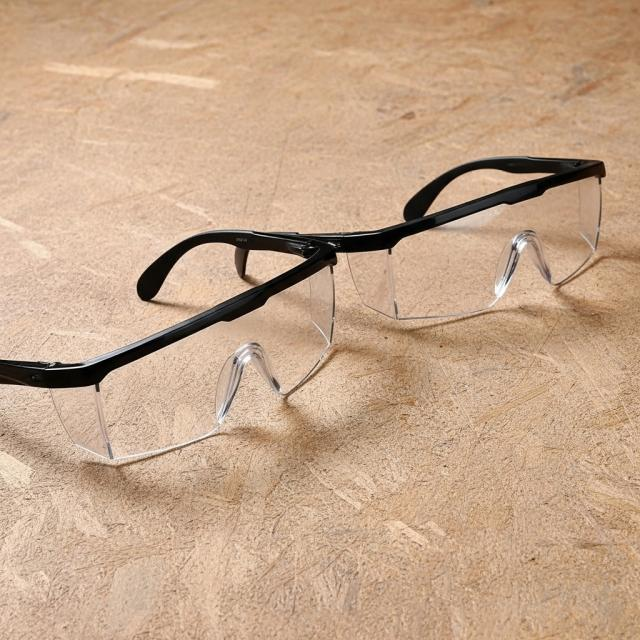oculos-epi: (0, 156, 606, 460)
